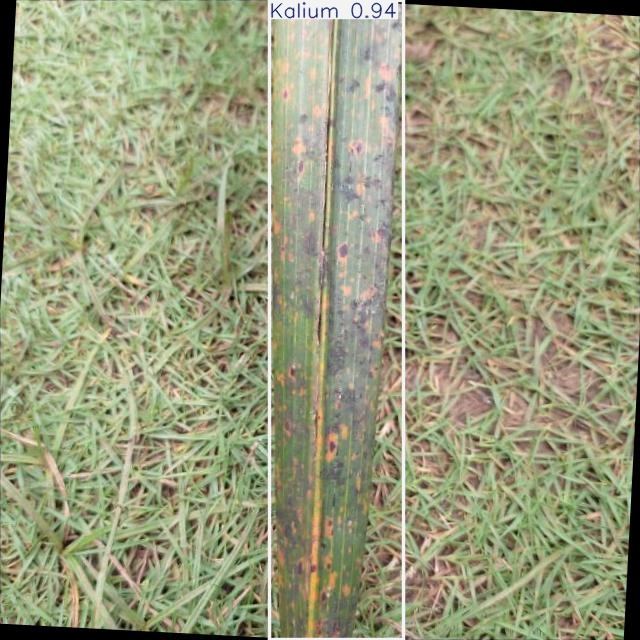Kalium: (270, 0, 404, 640)
